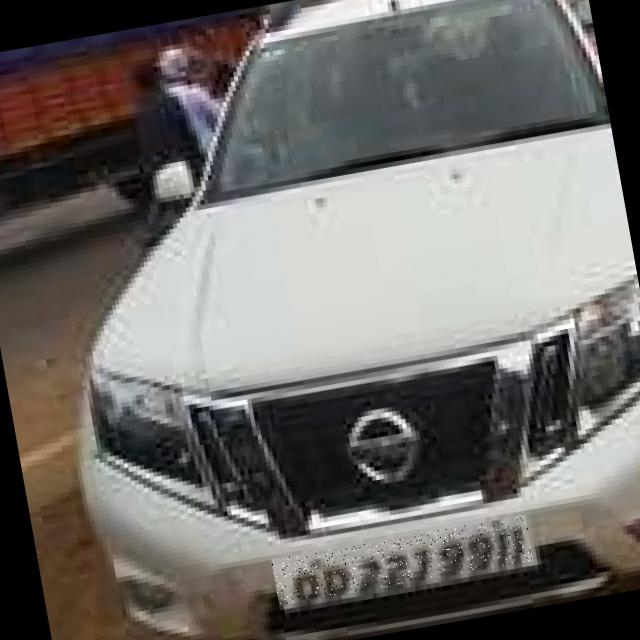Plate: (272, 516, 534, 607)
